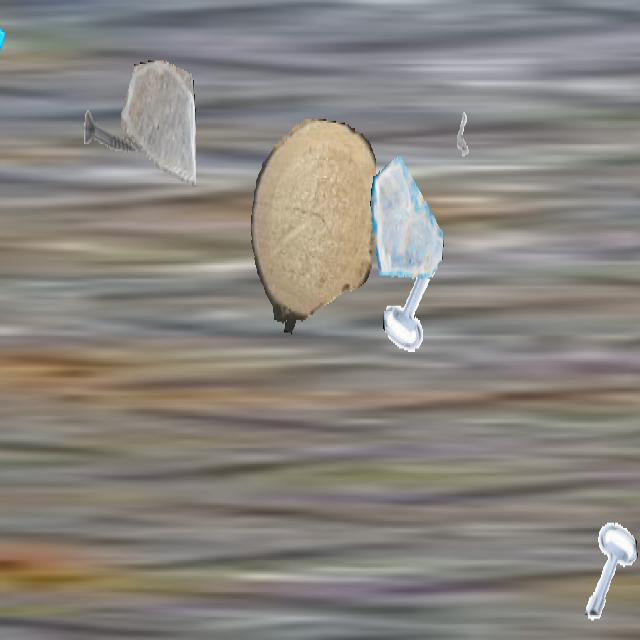glass: (121, 60, 195, 192), (370, 151, 444, 283), (0, 2, 4, 137)
metal: (82, 76, 144, 186), (383, 247, 445, 357), (578, 516, 638, 622), (444, 92, 482, 160)
wood: (251, 119, 375, 336)
